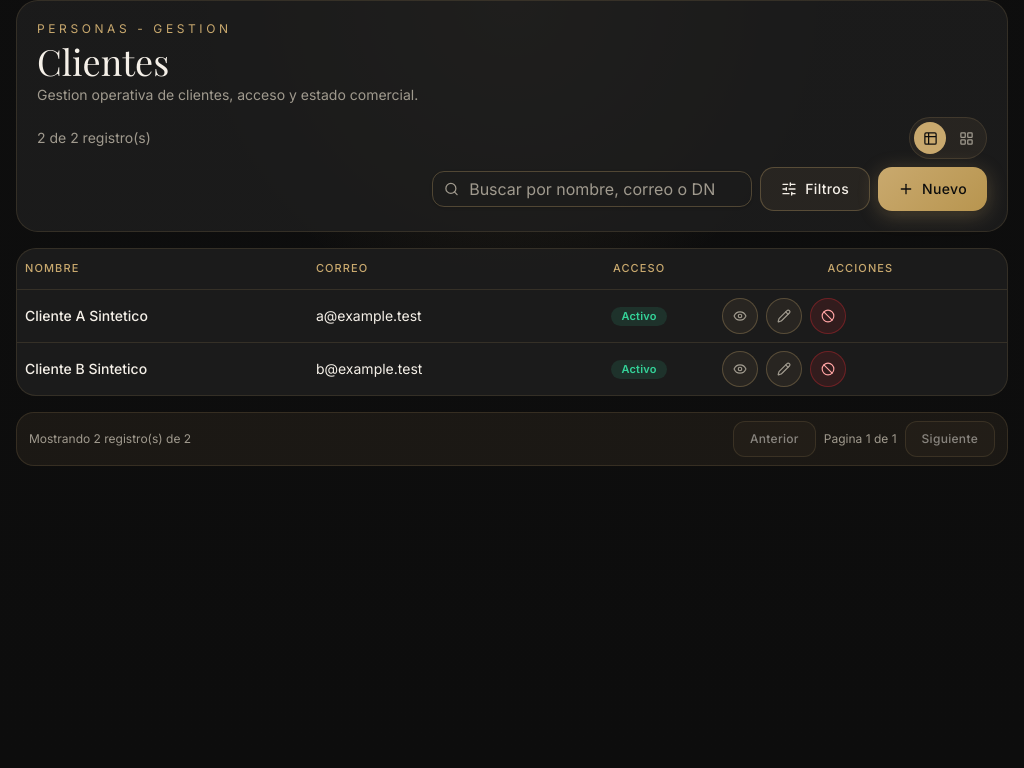
Test: error técnico vigente se presenta como mensaje funcional seguro
Click the button named "Editar" in the row of "Cliente A Sintetico": {"x": 784, "y": 316} [766,298,802,334]
(page scrolled)
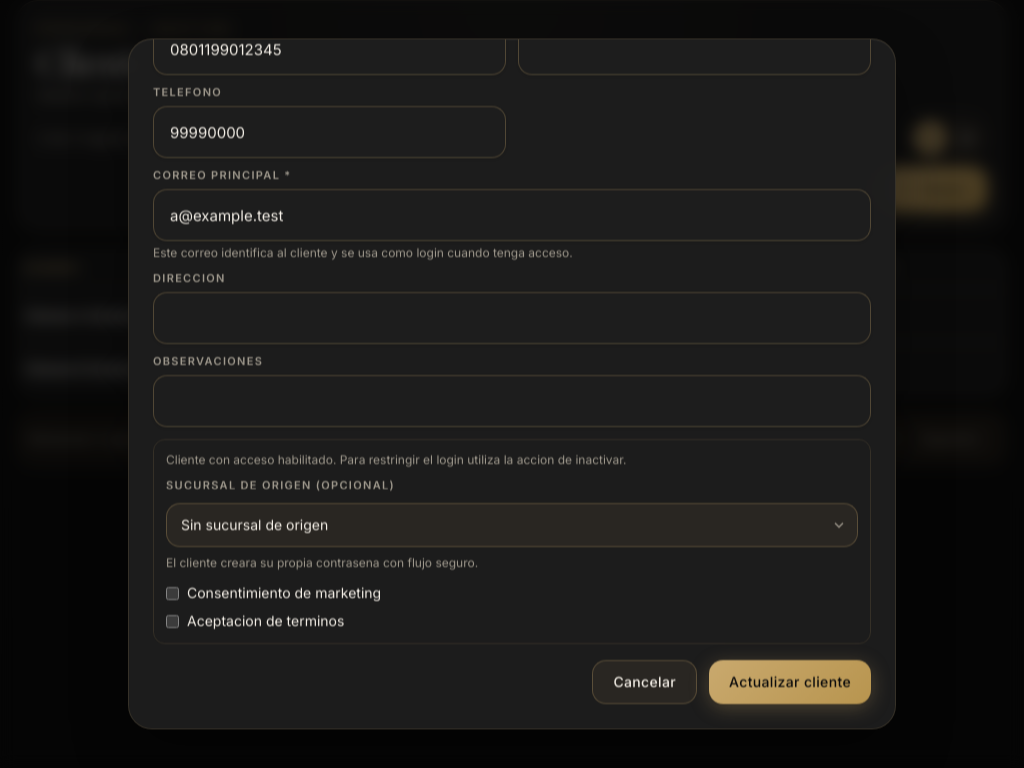
Click the button "Actualizar cliente": {"x": 790, "y": 682} [709,660,871,704]
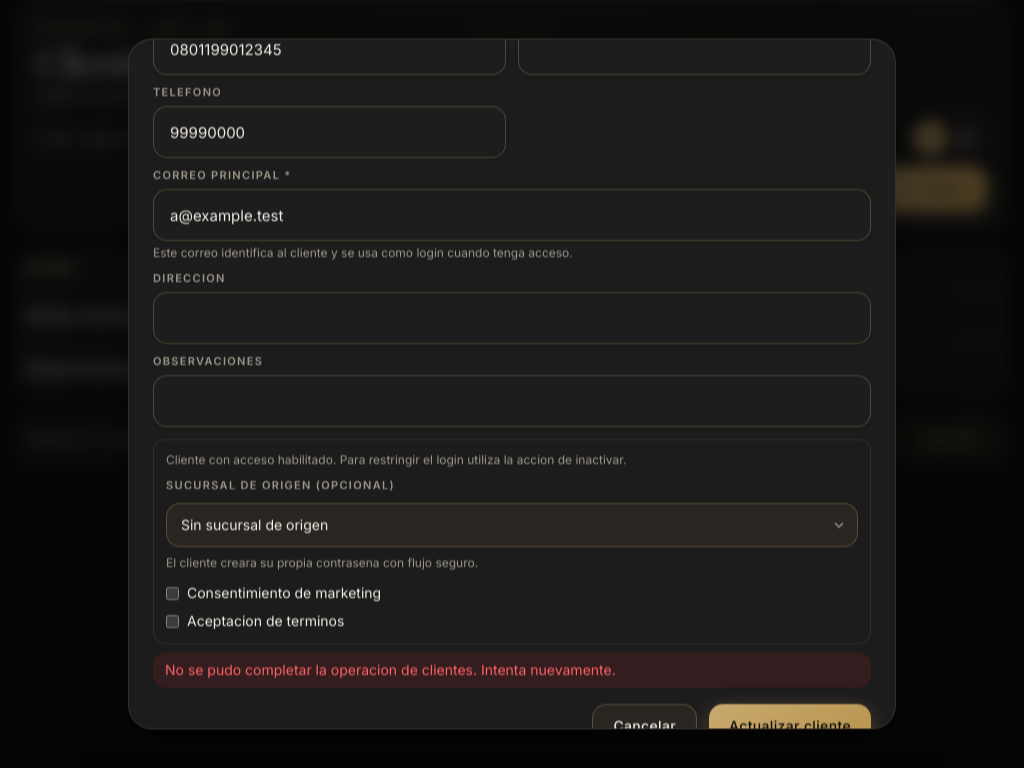
expect the text "No se pudo completar la operacion de clientes. Intenta nuevamente." is shown: met, box [153,652,871,688]
